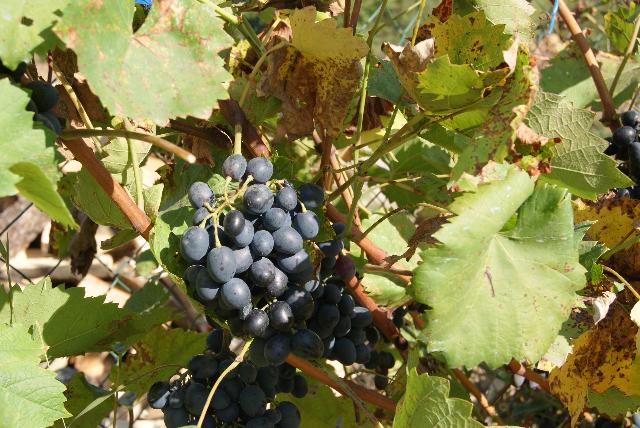grapes: (180, 155, 395, 398), (184, 354, 300, 428)
